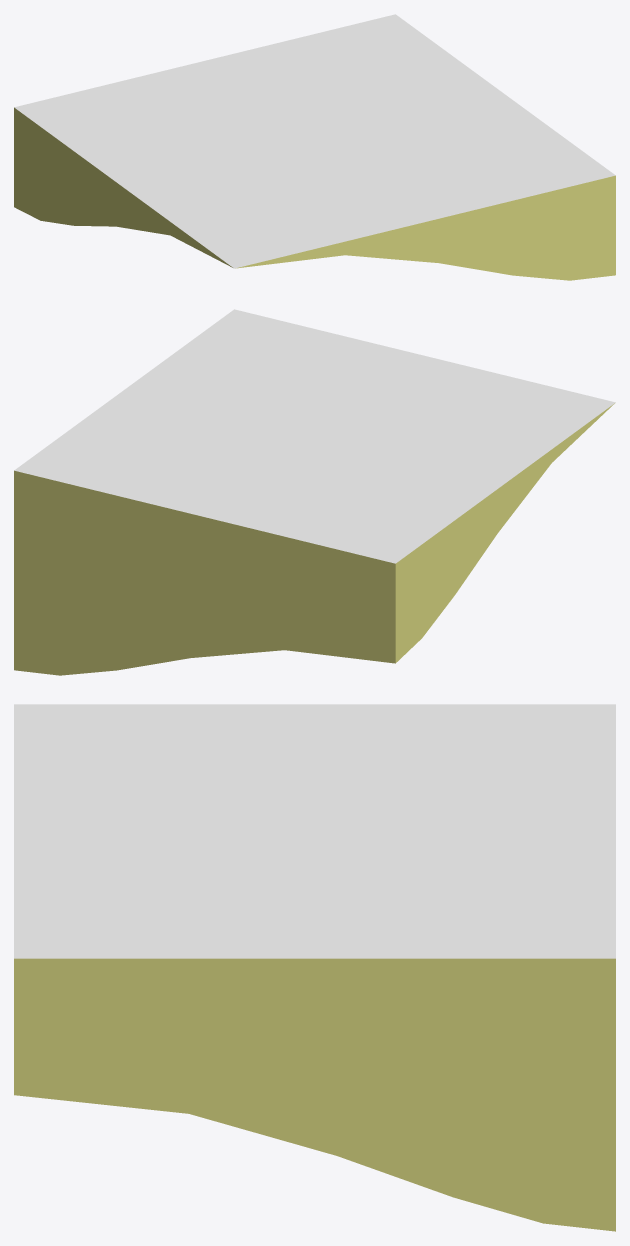
The model's file is Ceiling_Overlapping_4x4.glb.
3 views of the same model, one above another, from view 1: azimuth 30°, elevation 25°; view 2: azimuth 150°, elevation 25°; view 3: azimuth 270°, elevation 25° (orthographic). The views are drawn at different scales.
Visible parts, largest first — view 1: Ceiling_Overlapping_4x4; view 2: Ceiling_Overlapping_4x4; view 3: Ceiling_Overlapping_4x4.
Part boxes in pixels (<box>): Ceiling_Overlapping_4x4: <box>14,14,615,280</box>; Ceiling_Overlapping_4x4: <box>14,309,615,675</box>; Ceiling_Overlapping_4x4: <box>14,704,615,1231</box>.
Size of the model in its own units: 400 by 200 by 400.
